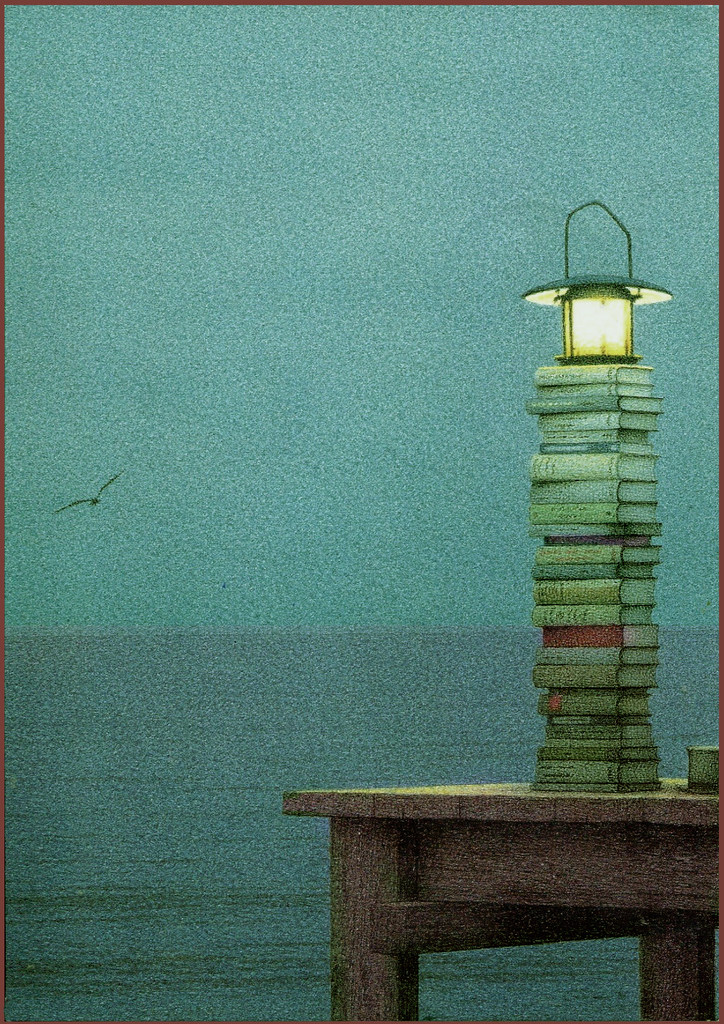Table: (285, 781, 723, 1023)
